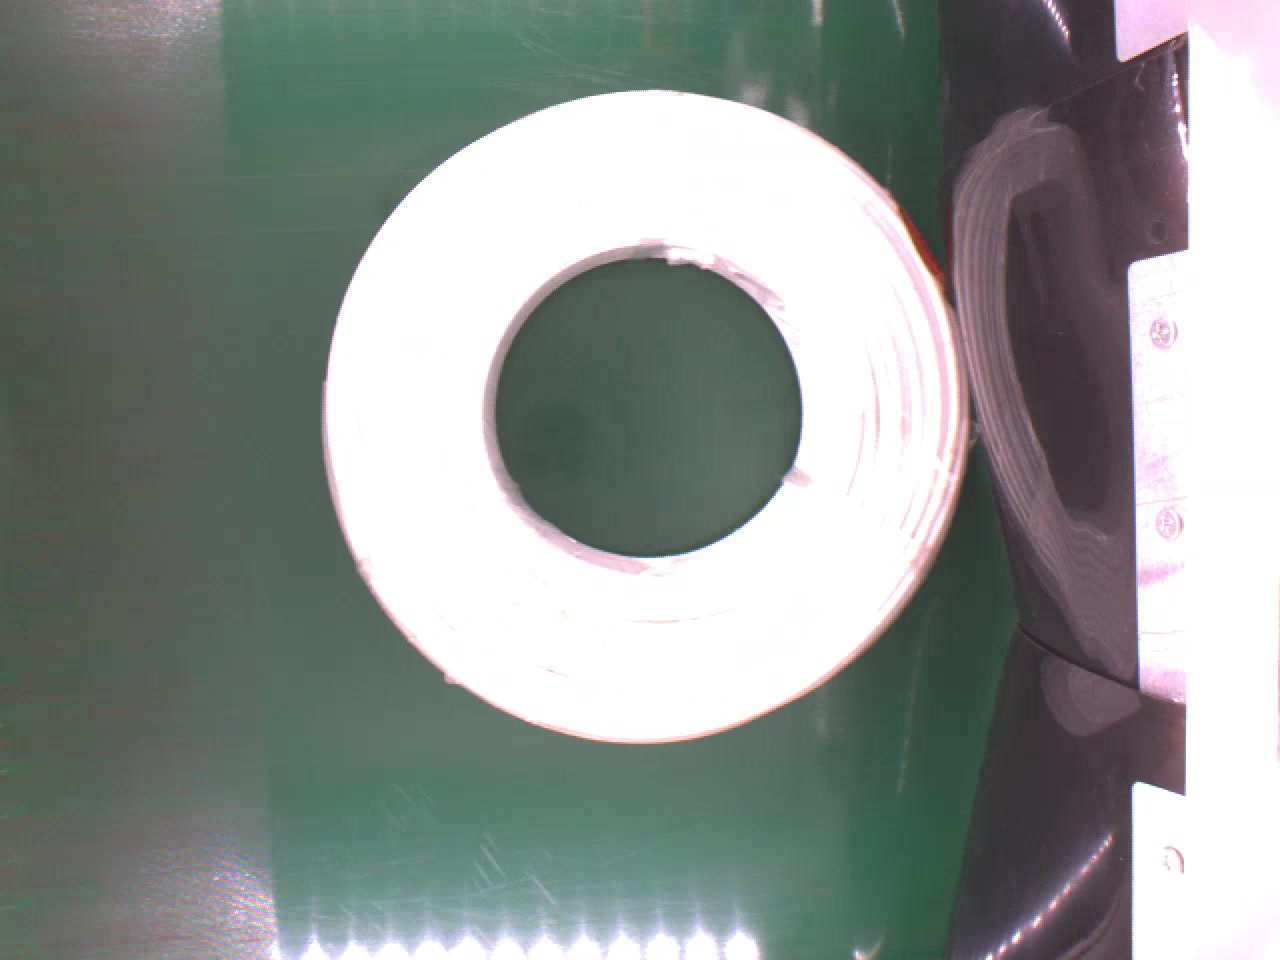white: (317, 84, 972, 749)
